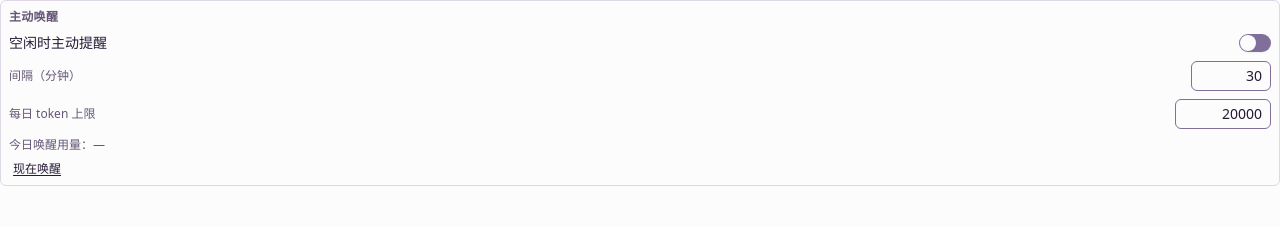
Scenario: WakeSettings › ② the switch saves immediately and announces the schedule change; a bad interval shows the server's reason
Step 1. Click the switch named "主动唤醒开关" → (1255, 43), box [1239, 34, 1271, 52]
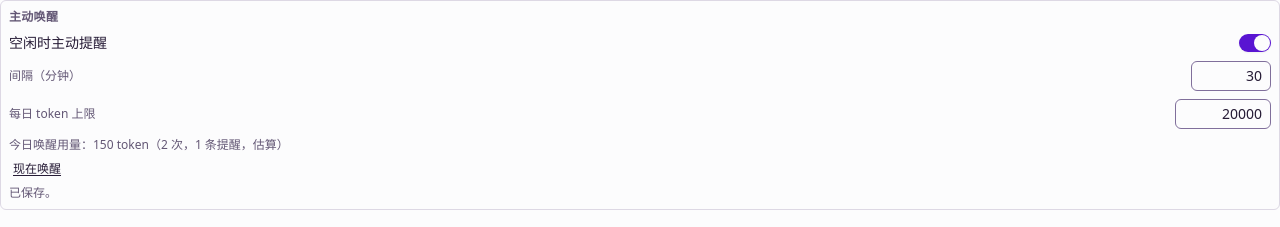
Now the message reads "已保存。", box [9, 184, 57, 201]
Step 2. Replace the text in the field named "唤醒间隔（分钟）" with "0" → (1231, 76), box [1191, 61, 1271, 91]
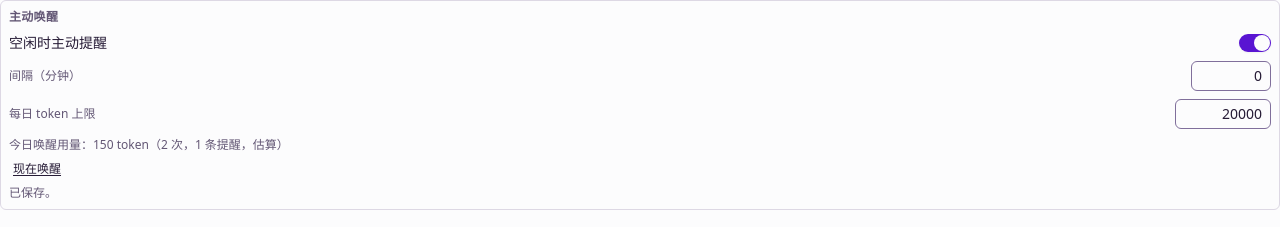
Step 3. Leave the field named "唤醒间隔（分钟）", box [1191, 61, 1271, 91]
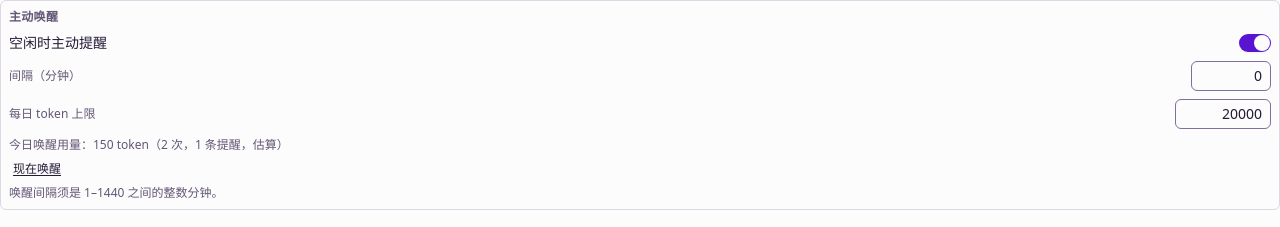
Now the message shows "1–1440", box [9, 184, 224, 201]
